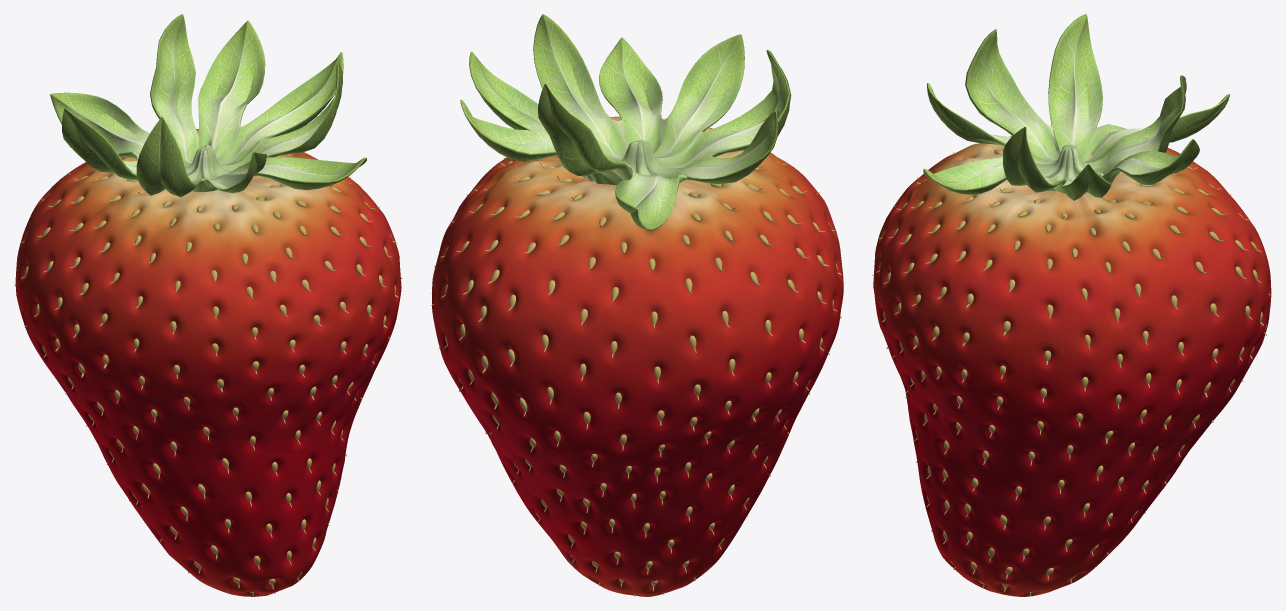
Rendered from MORANGO.fbx.fbx.
The picture shows the model from 3 angles, left to right: view 1: azimuth 30°, elevation 25°; view 2: azimuth 150°, elevation 25°; view 3: azimuth 270°, elevation 25°; orthographic projection. The views are drawn at different scales.
Parts seen in each view (by area): view 1: Mesh; view 2: Mesh; view 3: Mesh.
Boxes of the visible parts, <box> form: Mesh: <box>14,14,402,596</box>; Mesh: <box>431,14,843,596</box>; Mesh: <box>872,14,1271,596</box>.
Size of the model in its own units: 3.89 by 5.85 by 4.07.
